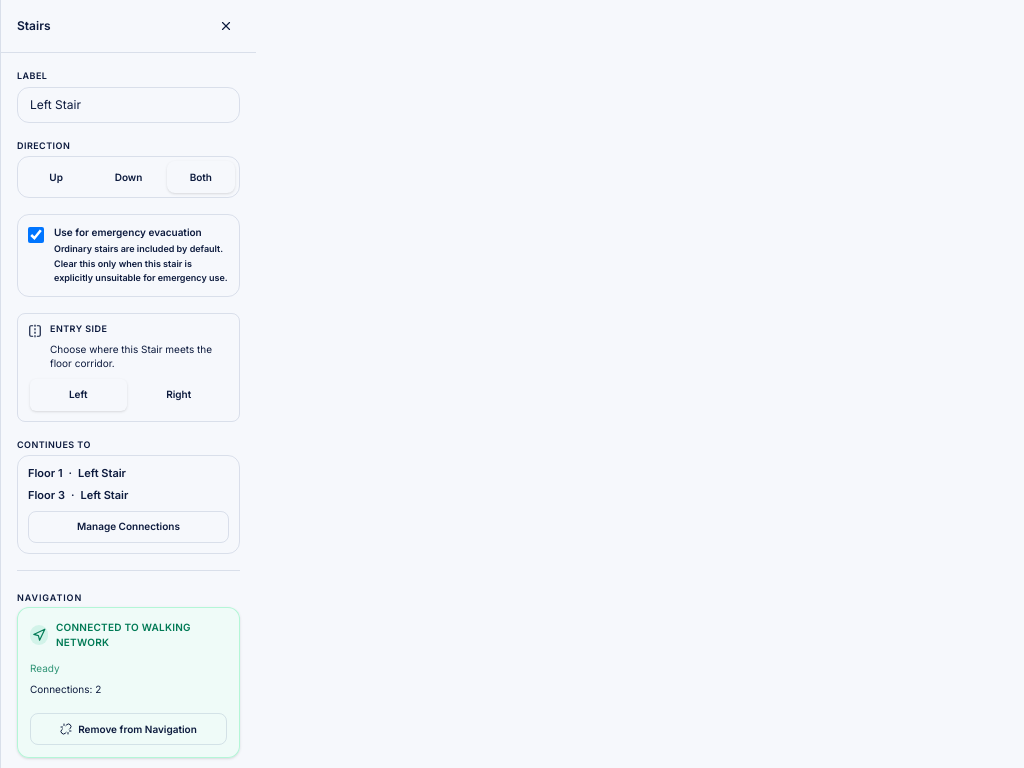
Scenario: Room authoring properties › opens one right-side connection panel with current Floor highlighted and targets in floor order
The image size is (1024, 768).
What coordinates should you click on to do the following:
click the button with test id "circulation-group-trigger-stairs"
I would click on:
 (128, 527)
Its box is x1=28 y1=511 x2=229 y2=543.
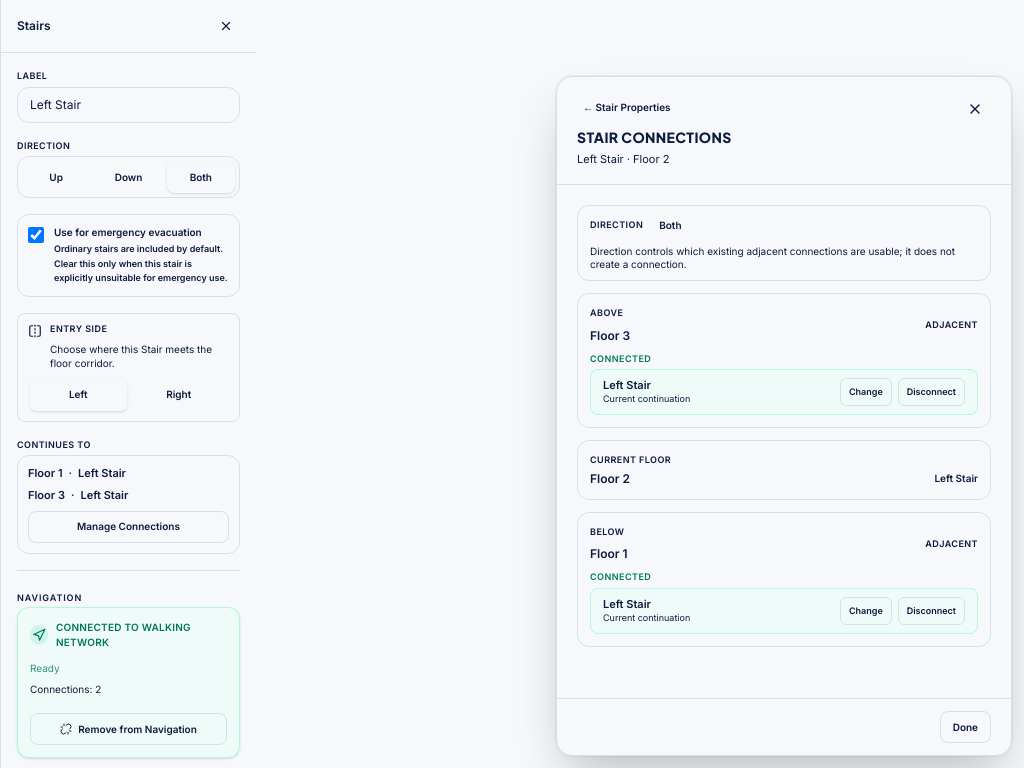
Now the element with test id "stair-connections-side-panel" is shown, box x1=544 y1=64 x2=1023 y2=767
Now the element with test id "^stair-picker-floor-" shows "Floor 3", box x1=590 y1=328 x2=630 y2=342
Now the element with test id "^stair-picker-floor-" shows "Floor 1", box x1=590 y1=546 x2=628 y2=561
